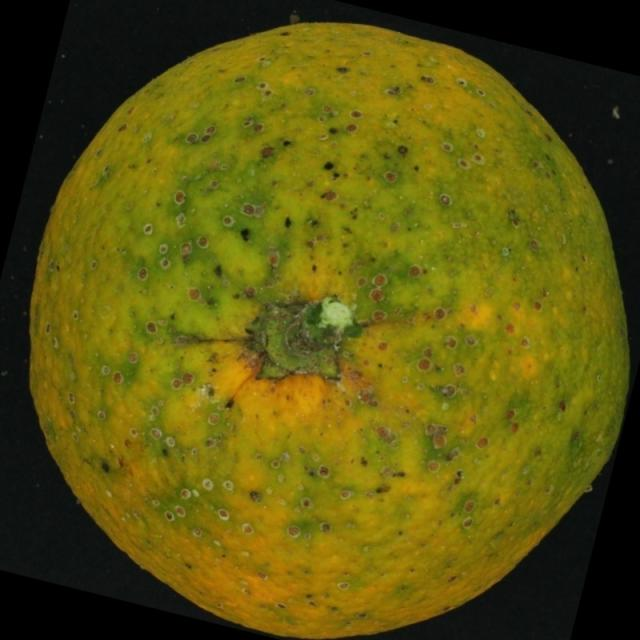grenning: (22, 6, 640, 640)
